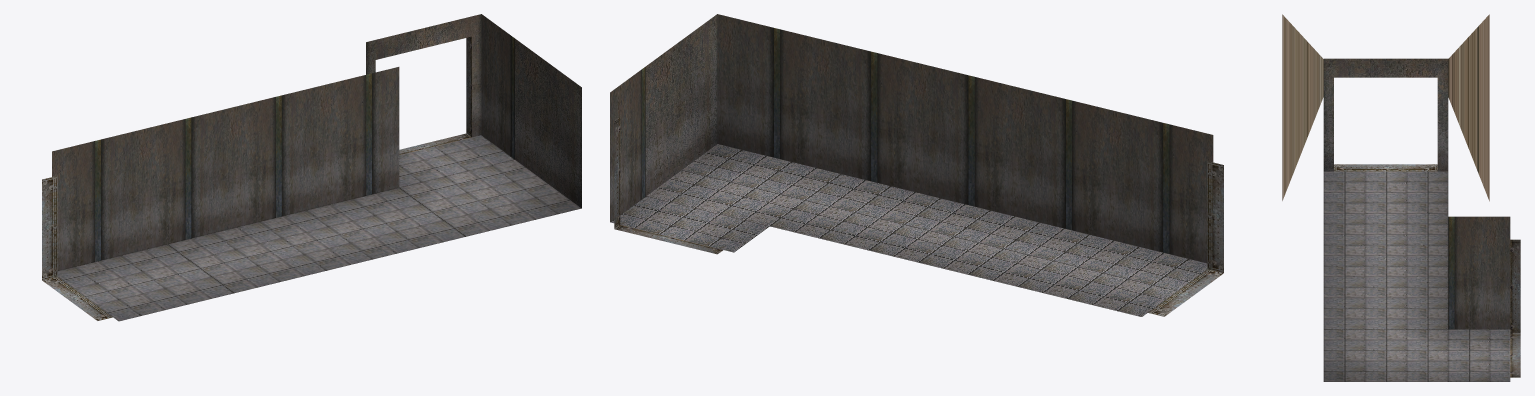
File: M11Z1_TunnelCoridoor.glb
3 views of the same model, side by side, from view 1: azimuth 30°, elevation 25°; view 2: azimuth 150°, elevation 25°; view 3: azimuth 270°, elevation 25° (orthographic). The views are drawn at different scales.
Visible parts, largest first — view 1: M11Z1_TUNNELCORIDOOR; view 2: M11Z1_TUNNELCORIDOOR; view 3: M11Z1_TUNNELCORIDOOR.
Part boxes in pixels (left/top/right/bottom): M11Z1_TUNNELCORIDOOR: left=42, top=14, right=581, bottom=321; M11Z1_TUNNELCORIDOOR: left=610, top=14, right=1223, bottom=316; M11Z1_TUNNELCORIDOOR: left=1282, top=14, right=1520, bottom=381.
Bounding box in the file's own units: 12.4 × 5 × 5.75.
Materials: 5 (5 with a texture image).
